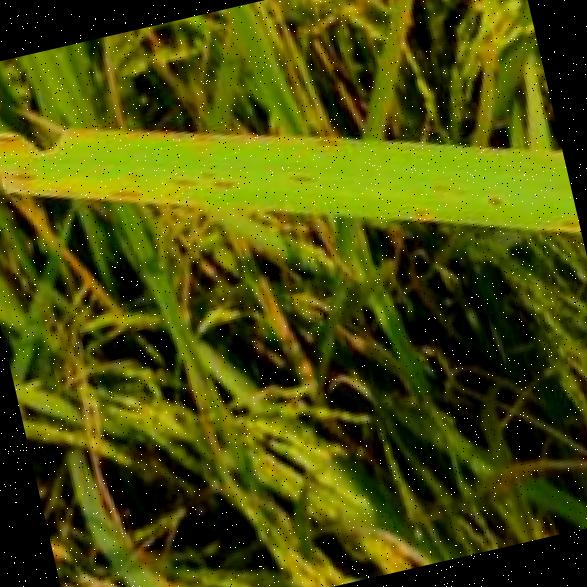Brown_Spot: (160, 146, 242, 201), (92, 168, 144, 206), (274, 162, 318, 190), (0, 155, 33, 189), (474, 183, 508, 212), (544, 208, 578, 237), (400, 197, 434, 225), (310, 124, 343, 152)
